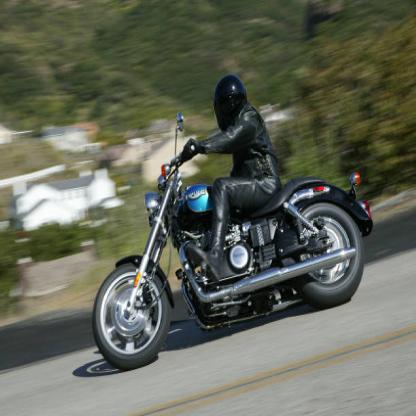Motorcycle: (85, 155, 371, 370)
